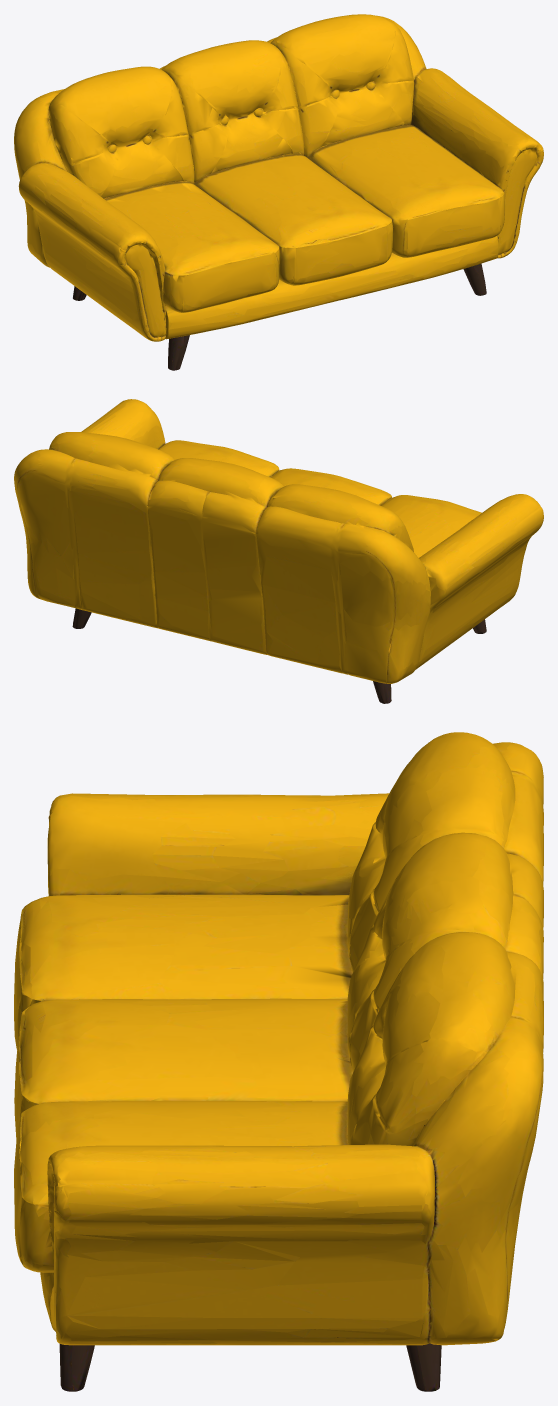
File: sofa.glb
3 renders of one model, top to bottom at view 1: azimuth 30°, elevation 25°; view 2: azimuth 150°, elevation 25°; view 3: azimuth 270°, elevation 25°, orthographic. The views are drawn at different scales.
Bounding box in the file's own units: 1.9 × 0.8676 × 1.09.
1 material, 1 textured.
